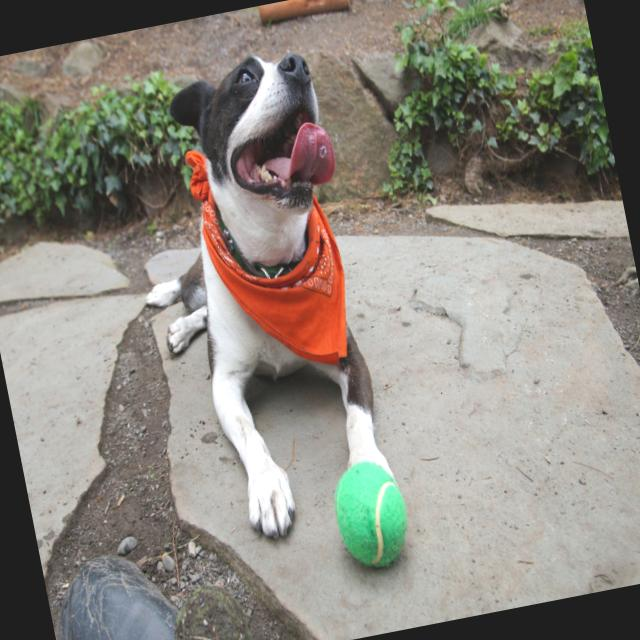Tennis ball: (330, 452, 418, 577)
